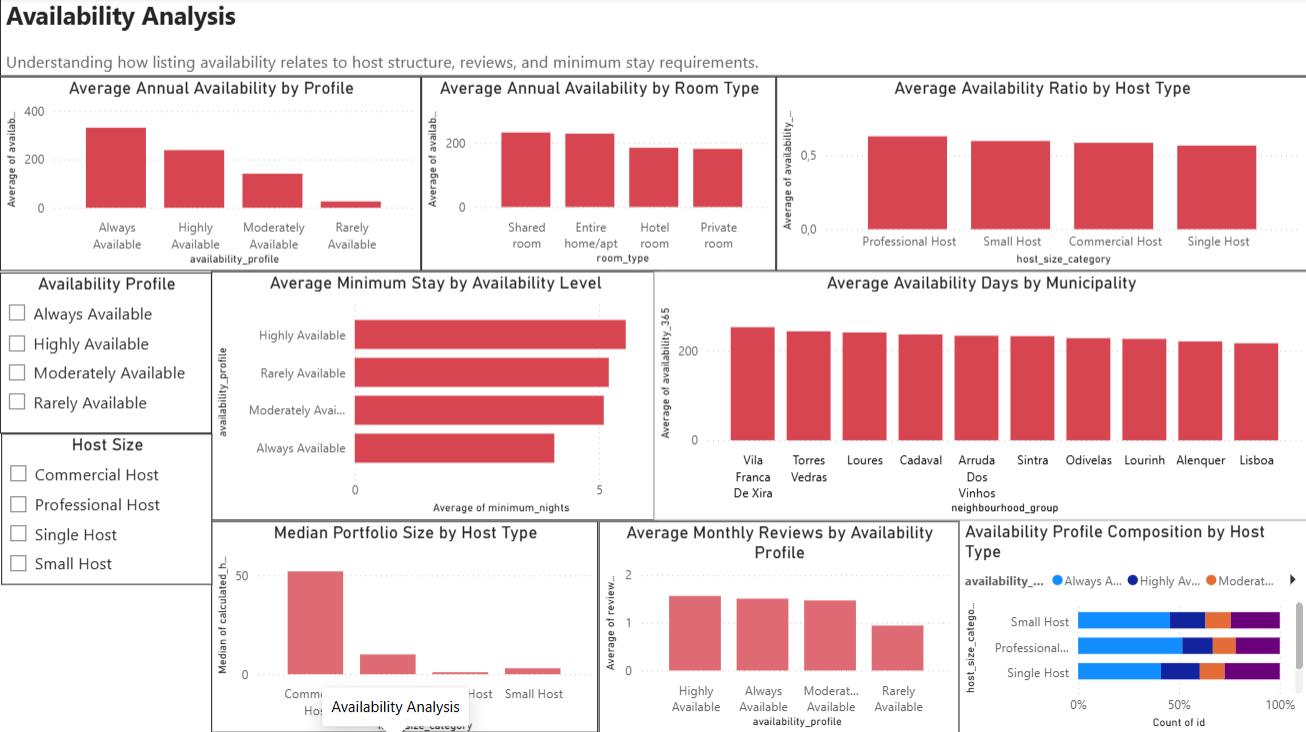

This screenshot's page, from the dashboard's own definition file:
{"tool":"powerbi","page":{"name":"Availability Analysis","canvas":[1280,720],"ordinal":1},"visuals":[{"type":"columnChart","title":"Average Annual Availability by Profile","fields":{"Category":["listings_data_clean.availability_profile"],"Y":["Avg(listings_data_clean.availability_365)"]},"box":[0,77,412.1,190.8],"z":0},{"type":"clusteredBarChart","title":"Average Minimum Stay by Availability Level","fields":{"Category":["listings_data_clean.availability_profile"],"Y":["Avg(listings_data_clean.minimum_nights)"]},"box":[206.7,268,437.6,243.7],"z":1000},{"type":"columnChart","title":"Average Availability Days by Municipality","fields":{"Category":["listings_data_clean.neighbourhood_group"],"Y":["Avg(listings_data_clean.availability_365)"]},"box":[640,268,640,243.7],"z":2000},{"type":"columnChart","title":"Average Availability Ratio by Host Type","fields":{"Category":["listings_data_clean.host_size_category"],"Y":["Avg(listings_data_clean.availability_ratio)"]},"box":[759.4,77,519.7,190.8],"z":3000},{"type":"slicer","title":"Availability Profile","fields":{"Values":["listings_data_clean.availability_profile"]},"box":[0,268.8,207.5,157.5],"z":4000},{"type":"lineStackedColumnComboChart","title":"Median Portfolio Size by Host Type","fields":{"Category":["listings_data_clean.host_size_category"],"Y":["Median(listings_data_clean.calculated_host_listings_count)"]},"box":[207.2,511.8,378.7,207.2],"z":5000},{"type":"slicer","title":"Host Size","fields":{"Values":["listings_data_clean.host_size_category"]},"box":[1.2,426.8,206.7,148],"z":6000},{"type":"textbox","box":[0,0,1278.9,76.8],"z":7000},{"type":"clusteredColumnChart","title":"Average Annual Availability by Room Type","fields":{"Y":["Avg(listings_data_clean.availability_365)"],"Category":["listings_data_clean.room_type"]},"box":[412.5,77.5,347.5,190],"z":8000},{"type":"columnChart","title":"Average Monthly Reviews by Availability Profile","fields":{"Category":["listings_data_clean.availability_profile"],"Y":["Avg(listings_data_clean.reviews_per_month)"]},"box":[585.9,511.8,352.7,208.6],"z":9000},{"type":"hundredPercentStackedBarChart","title":"Availability Profile Composition by Host Type","fields":{"Series":["listings_data_clean.availability_profile"],"Y":["CountNonNull(listings_data_clean.id)"],"Category":["listings_data_clean.host_size_category"]},"box":[939,512,341,208],"z":9001}]}

Visuals, with their boxes in screenshot pixels (x1, y1, x2, y2), scaled from the page's 1280x720 canvas onto the 1306x732 screenshot:
"Average Annual Availability by Profile" columnChart: box=[0, 78, 420, 272]
"Average Minimum Stay by Availability Level" clusteredBarChart: box=[211, 272, 657, 520]
"Average Availability Days by Municipality" columnChart: box=[653, 272, 1305, 520]
"Average Availability Ratio by Host Type" columnChart: box=[775, 78, 1305, 272]
"Availability Profile" slicer: box=[0, 273, 212, 433]
"Median Portfolio Size by Host Type" lineStackedColumnComboChart: box=[211, 520, 598, 731]
"Host Size" slicer: box=[1, 434, 212, 584]
textbox: box=[0, 0, 1305, 78]
"Average Annual Availability by Room Type" clusteredColumnChart: box=[421, 79, 775, 272]
"Average Monthly Reviews by Availability Profile" columnChart: box=[598, 520, 958, 731]
"Availability Profile Composition by Host Type" hundredPercentStackedBarChart: box=[958, 521, 1305, 731]
